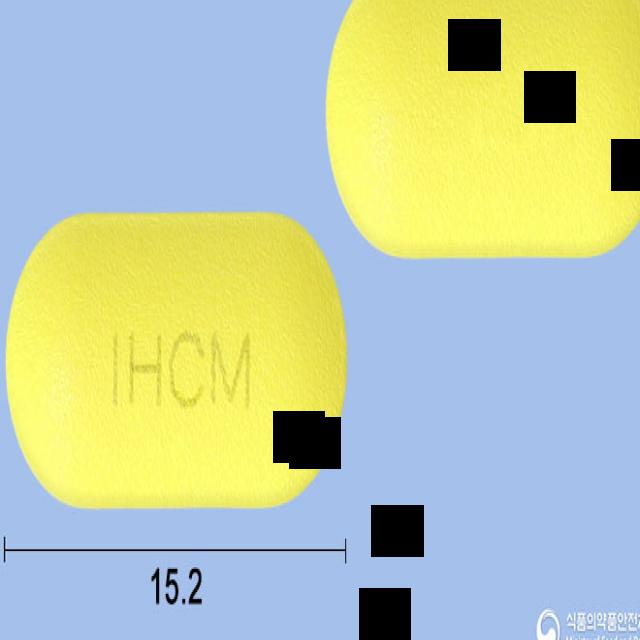Claritin: (5, 212, 349, 512)
